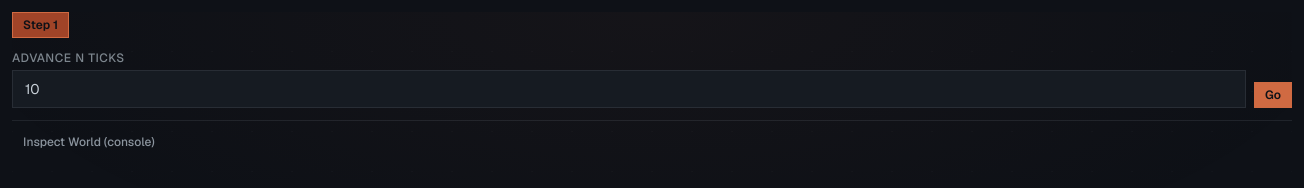
Test case: AdvanceTicksSection — Inspect World affordance › surfaces a rejected inspectWorld command's error instead of logging silently
Click the button "Inspect World (console)".
click(89, 142)  # box [12, 129, 166, 155]
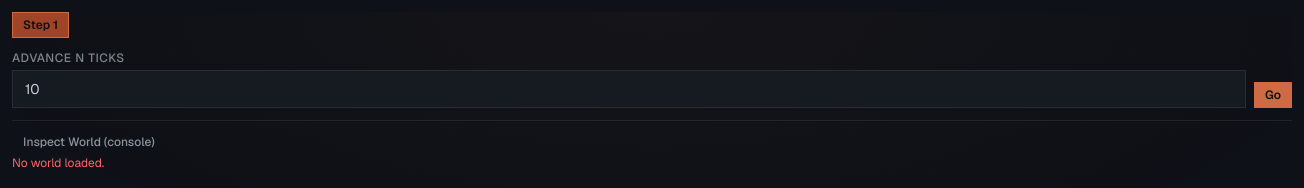
expect the text "No world loaded." is shown: met, box [12, 155, 104, 171]
